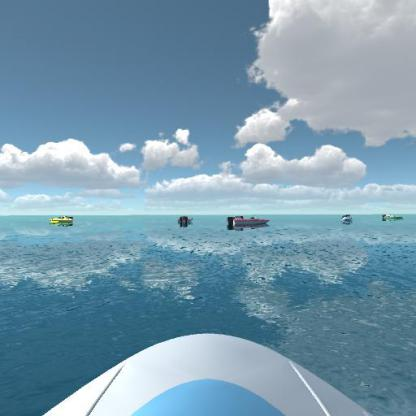usv0: (379, 210, 405, 223), (176, 213, 196, 228)
usv1: (339, 211, 355, 225)
usv2: (48, 212, 77, 227)
usv3: (224, 211, 271, 233)
